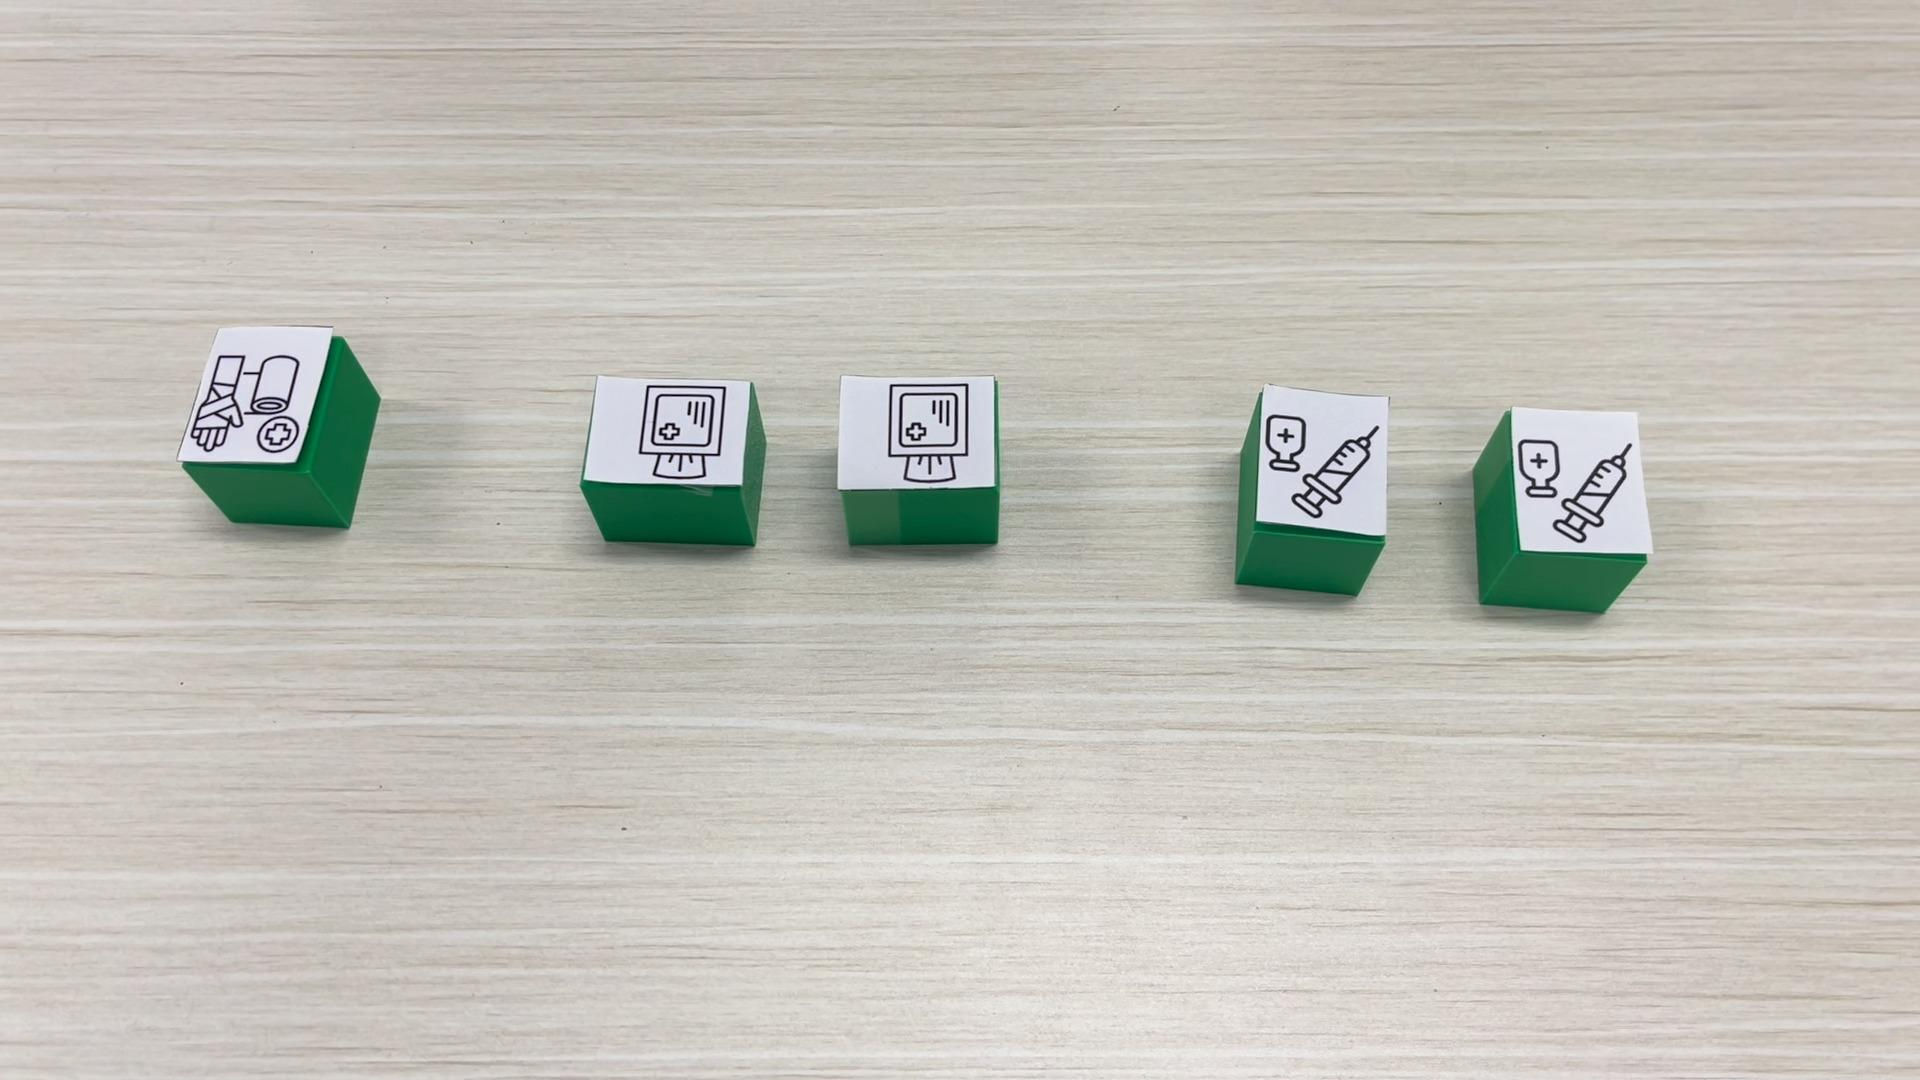Bandages: (178, 324, 378, 529)
Gauze: (579, 375, 766, 546), (833, 372, 1002, 545)
antiseptic cream: (1470, 404, 1654, 615), (1233, 382, 1390, 596)
